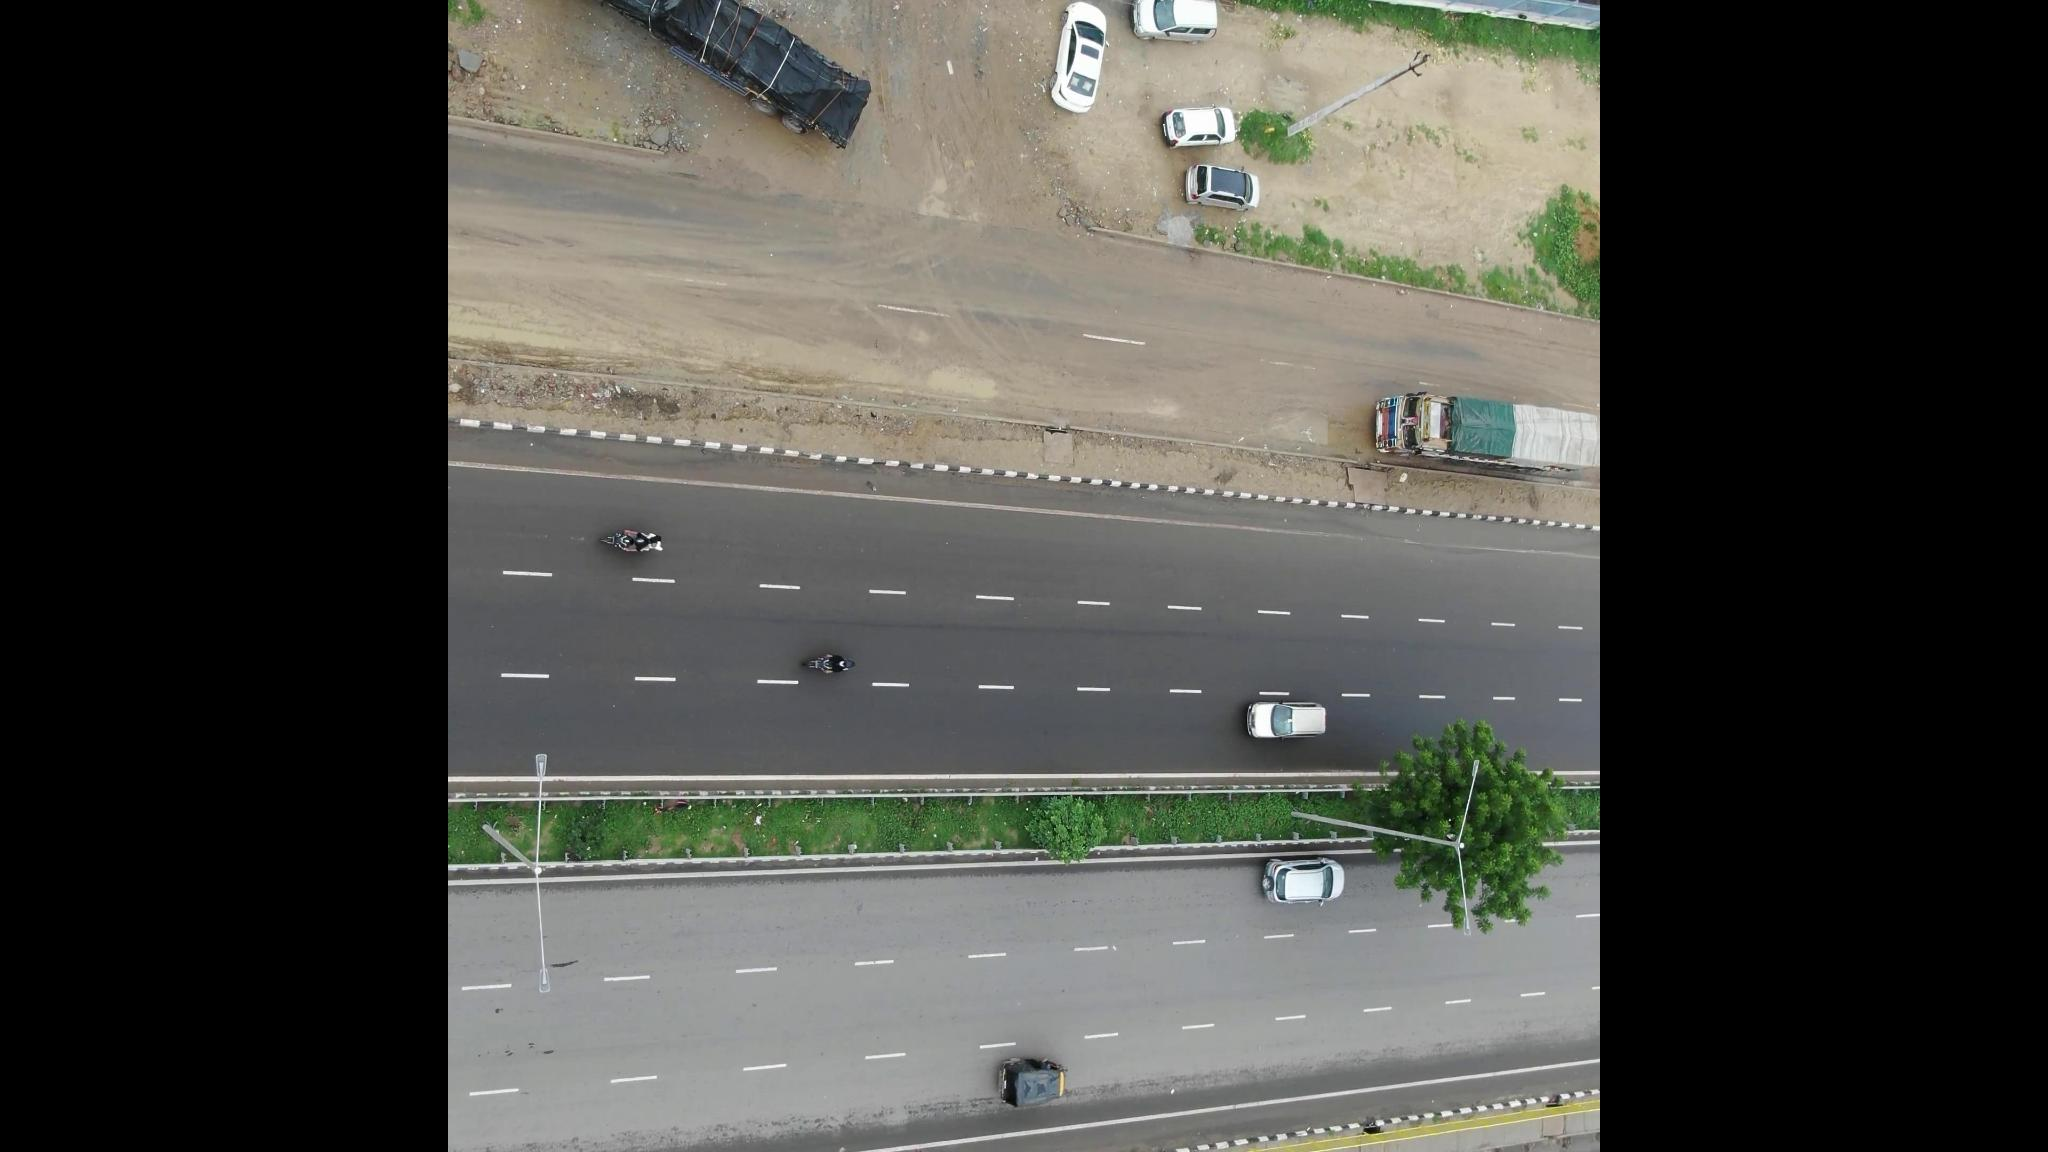Muddy_road: (738, 257, 1045, 394), (1084, 318, 1373, 447), (467, 231, 727, 357)
